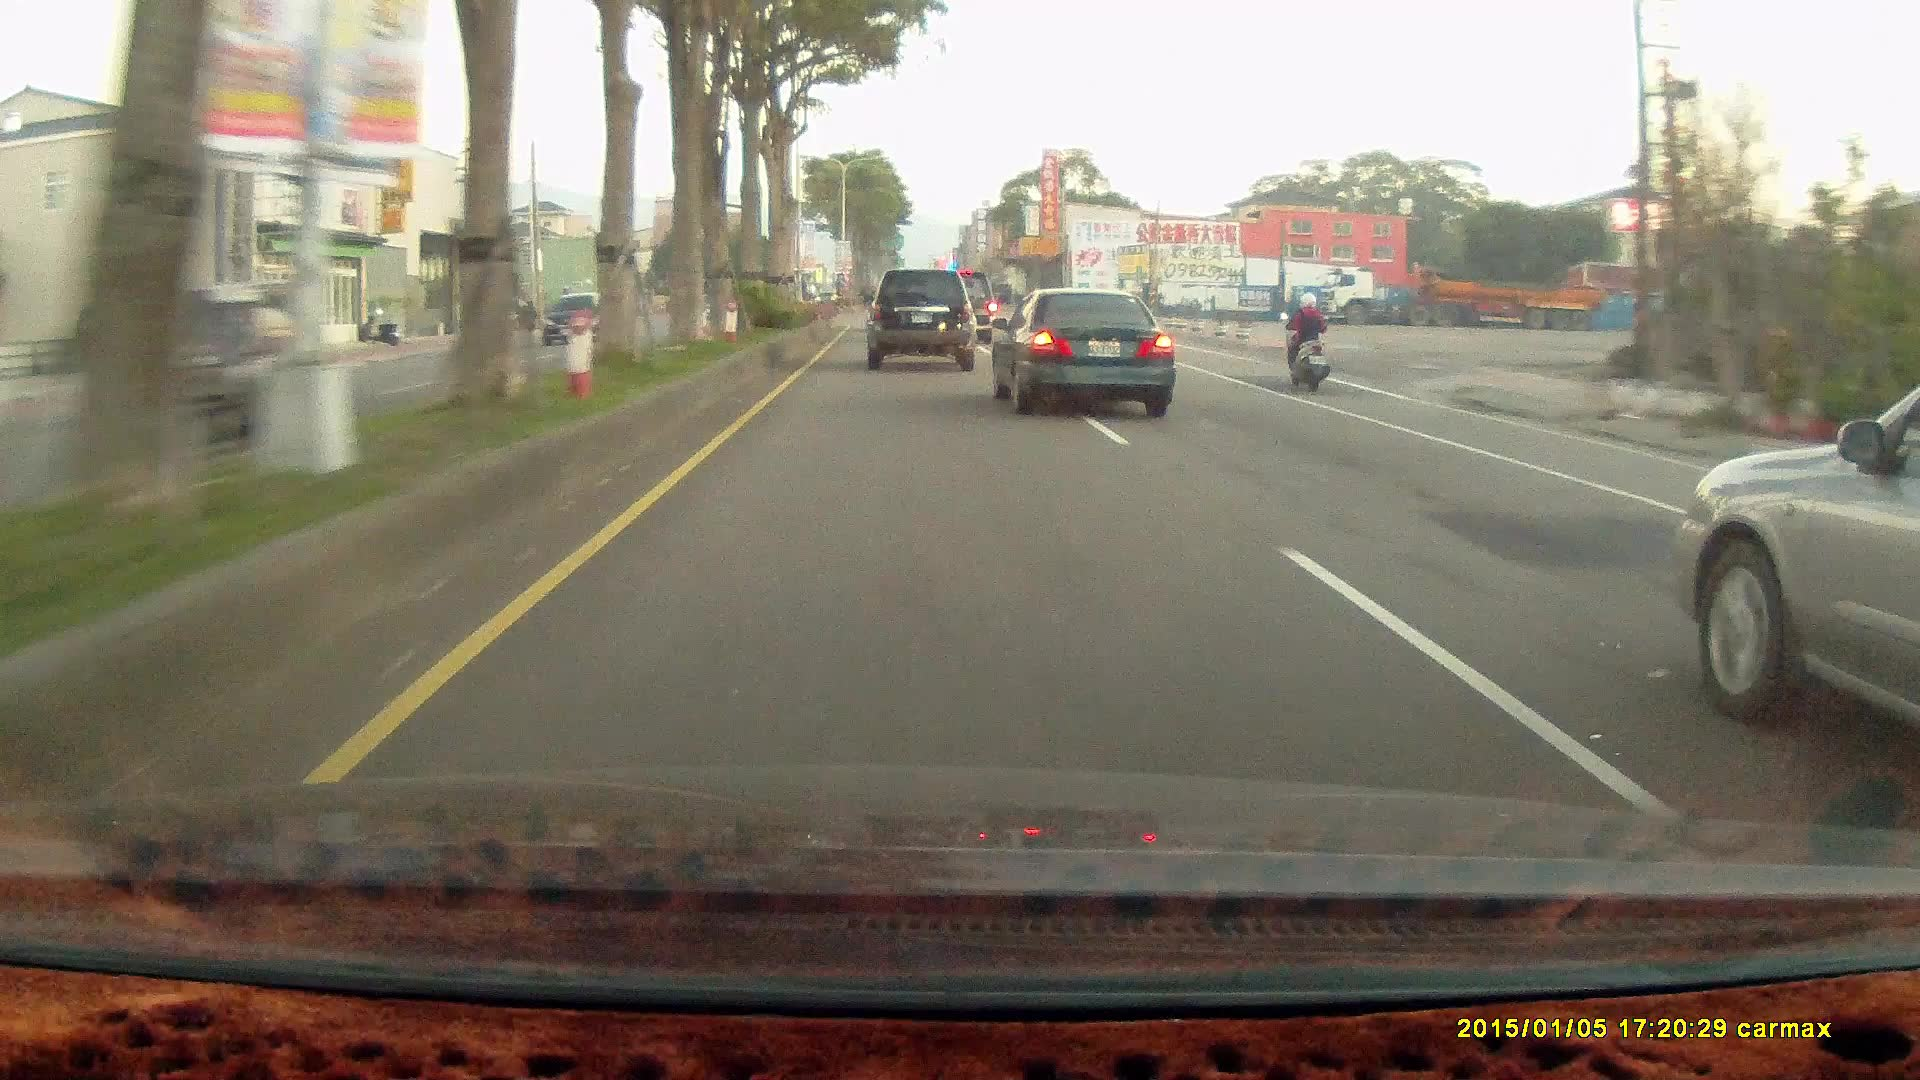rider: (1274, 282, 1340, 401), (1280, 285, 1331, 387)
vehicle: (1691, 373, 1920, 763), (63, 285, 323, 469), (107, 285, 276, 438), (987, 288, 1177, 415), (990, 285, 1174, 414), (1327, 264, 1603, 330), (867, 267, 979, 371), (864, 267, 976, 368), (929, 270, 998, 347), (541, 291, 620, 345)
